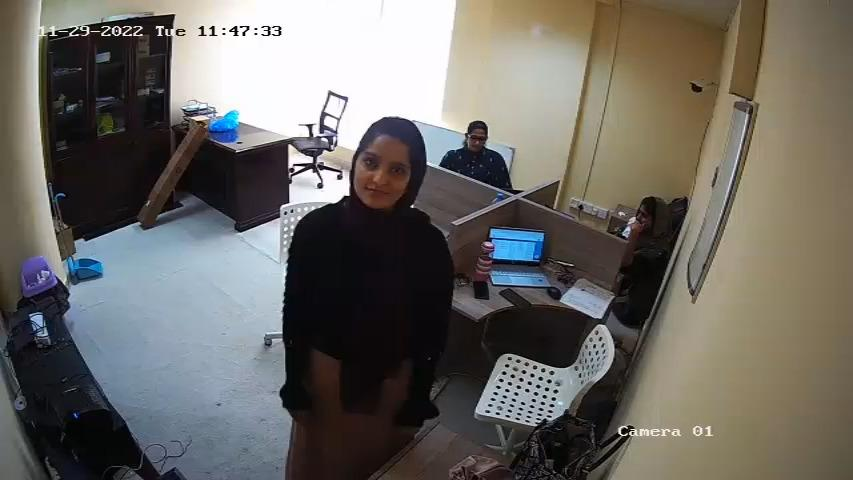no_apron: (304, 215, 427, 395)
